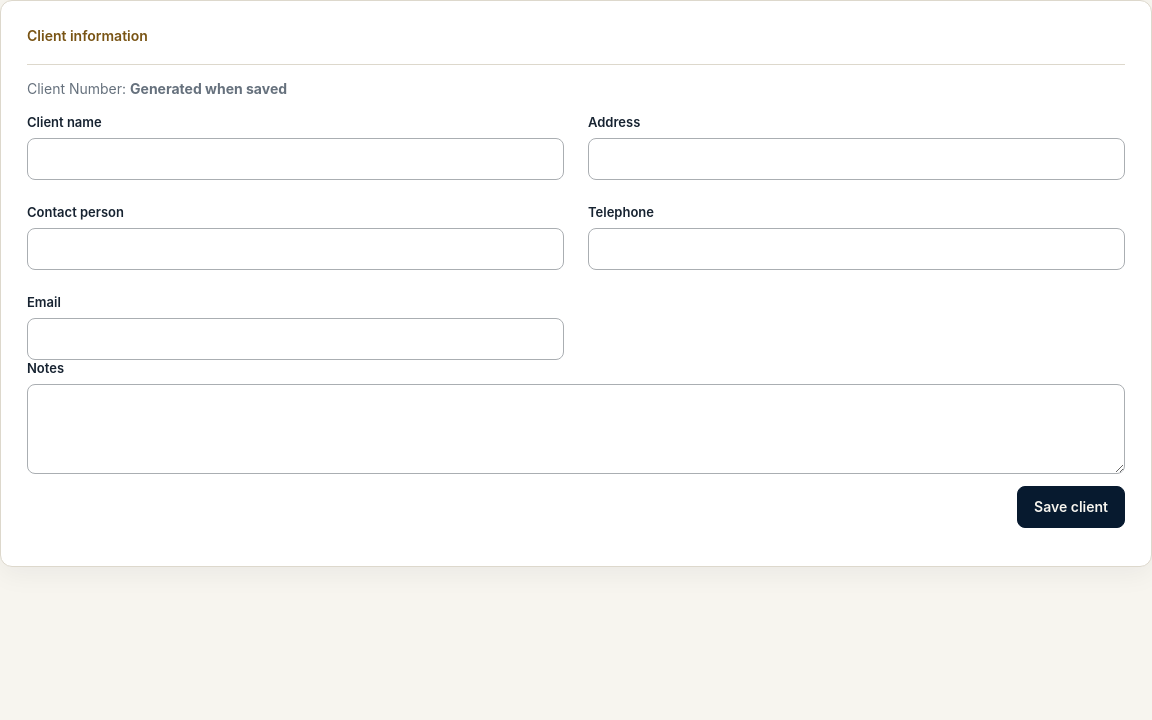
Scenario: Client and Project forms › rejects a missing client name and an invalid email
Type "invalid" into the field labelled "Email" at (296, 339), box [27, 318, 564, 360]
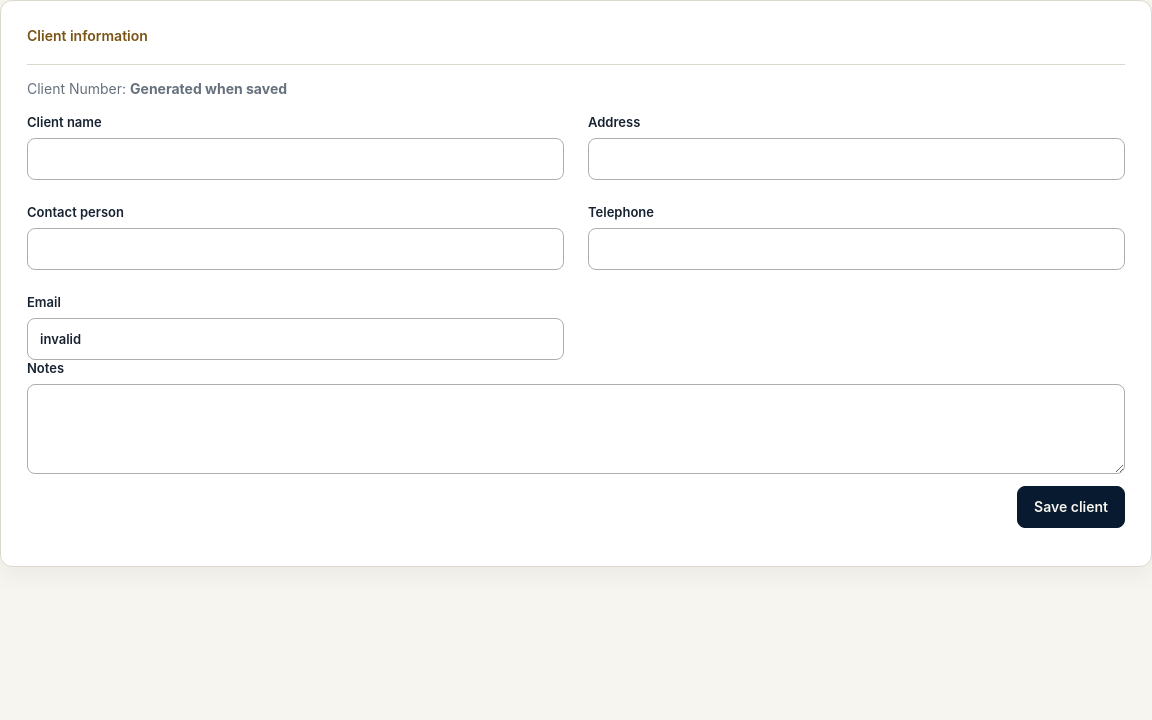
Click the button "Save client" at (1071, 507), box [1017, 486, 1125, 528]
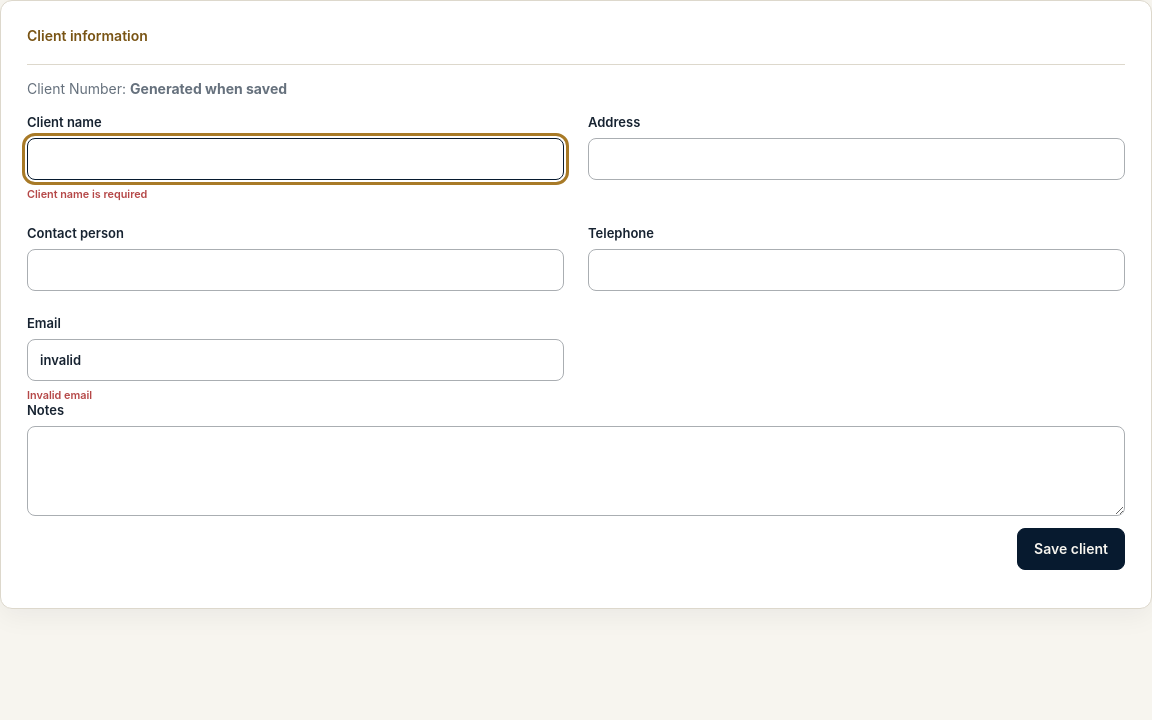
Expected: the text "Client name is required" is shown, [27, 188, 147, 201]
